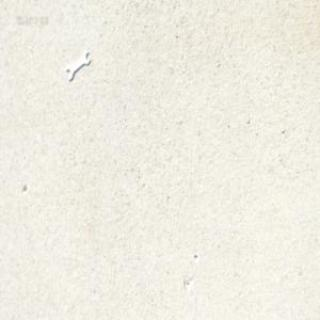Wrenchtrack_idkeyframe: (65, 45, 90, 79)
